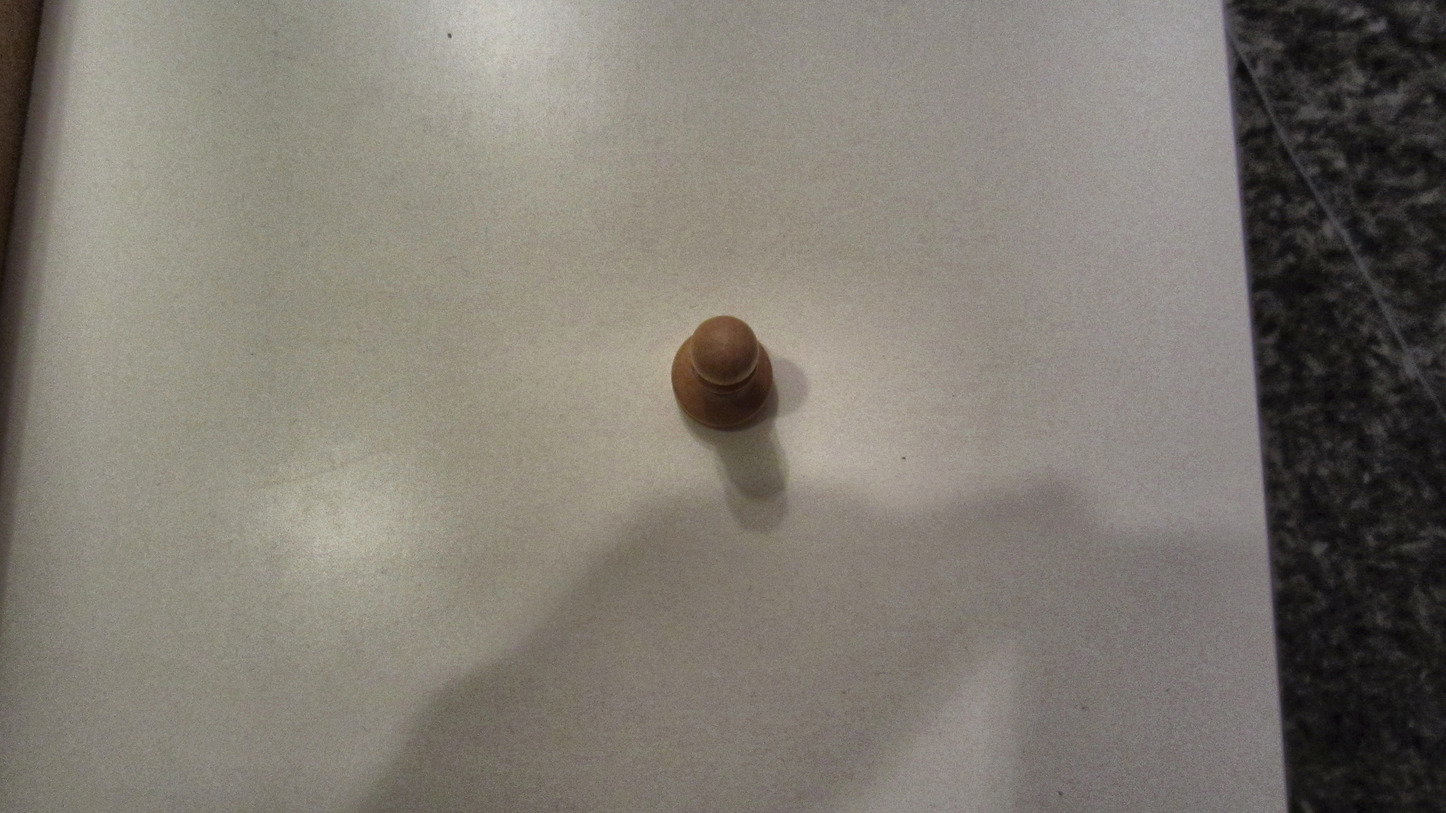white-pawn: (667, 311, 781, 431)
